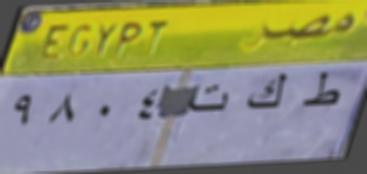0: (96, 100, 115, 123)
4: (132, 85, 160, 132)
8: (48, 90, 76, 128)
9: (8, 88, 34, 132)
Taa: (301, 70, 340, 118)
kaaf: (242, 70, 286, 118)
taa: (182, 80, 230, 119)
